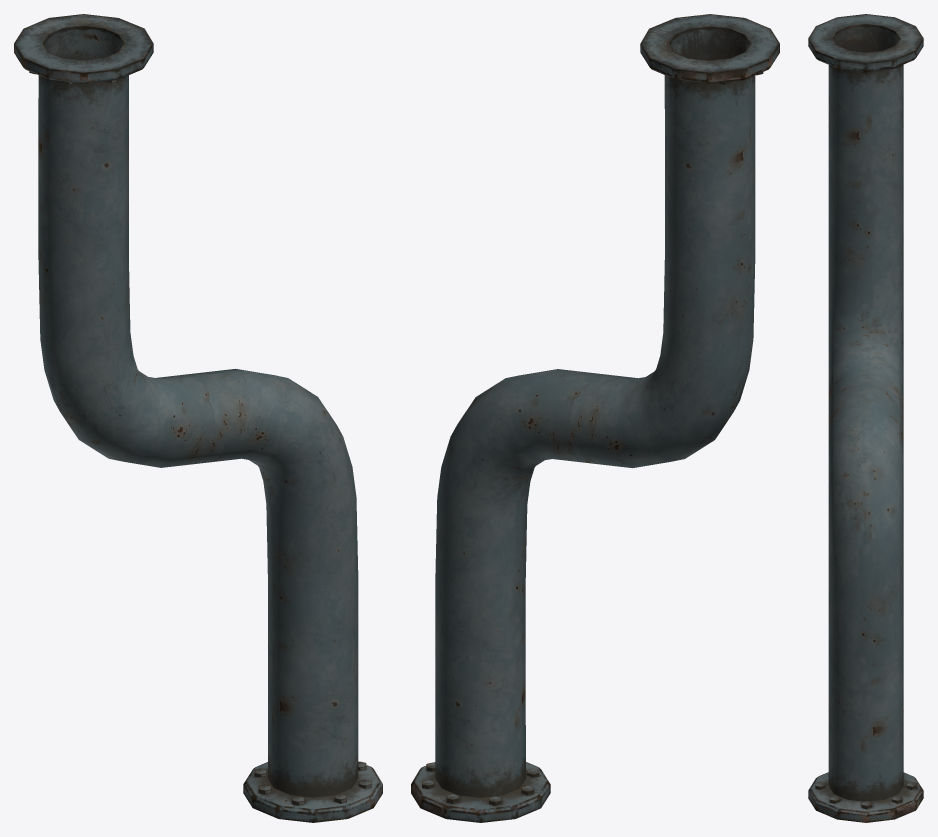
The model's file is modular_industrial_pipes_01_pipe03_Game.fbx.
3 views of the same model, side by side, from view 1: azimuth 30°, elevation 25°; view 2: azimuth 150°, elevation 25°; view 3: azimuth 270°, elevation 25° (orthographic). The views are drawn at different scales.
Visible parts, largest first — view 1: modular_industrial_pipes_01_pipe03_Game; view 2: modular_industrial_pipes_01_pipe03_Game; view 3: modular_industrial_pipes_01_pipe03_Game.
Part boxes in pixels (box(x1,y1,x2,y2)): modular_industrial_pipes_01_pipe03_Game: box(14, 14, 382, 822); modular_industrial_pipes_01_pipe03_Game: box(411, 14, 779, 822); modular_industrial_pipes_01_pipe03_Game: box(808, 14, 923, 822).
Bounding box in the file's own units: 0.5986 × 1.31 × 0.2064.
